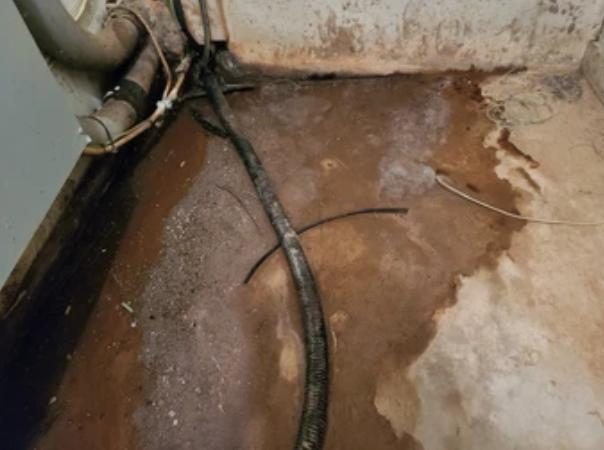water accumulation: (0, 71, 529, 450)
